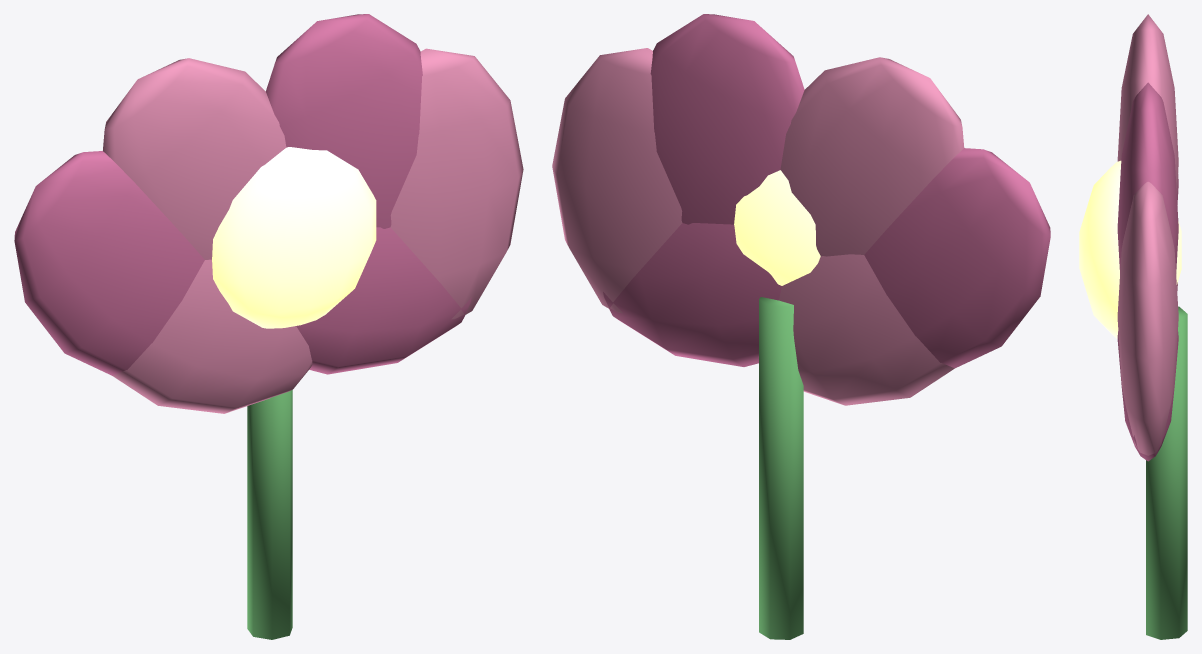
Rendered from xy_item_imprint_flower.glb.
3 views of the same model, side by side, from view 1: azimuth 30°, elevation 25°; view 2: azimuth 150°, elevation 25°; view 3: azimuth 270°, elevation 25° (orthographic). The views are drawn at different scales.
Parts seen in each view (by area): view 1: FlowerPetal.003, FlowerPetal, FlowerCore, FlowerPetal.002, FlowerPetal.001, FlowerPetal.004, FlowerPetal.005, FlowerStem; view 2: FlowerPetal.003, FlowerPetal.002, FlowerPetal.001, FlowerPetal, FlowerPetal.004, FlowerPetal.005, FlowerStem, FlowerCore; view 3: FlowerPetal, FlowerStem, FlowerPetal.001, FlowerCore, FlowerPetal.002, FlowerPetal.005.
Boxes of the visible parts, left/top/right/bottom form: FlowerPetal.003: left=14, top=151, right=204, bottom=375; FlowerPetal: left=390, top=48, right=523, bottom=319; FlowerCore: left=212, top=147, right=376, bottom=328; FlowerPetal.002: left=103, top=58, right=286, bottom=259; FlowerPetal.001: left=266, top=14, right=422, bottom=228; FlowerPetal.004: left=112, top=259, right=312, bottom=413; FlowerPetal.005: left=296, top=227, right=471, bottom=374; FlowerStem: left=247, top=390, right=292, bottom=639; FlowerPetal.003: left=864, top=148, right=1050, bottom=368; FlowerPetal.002: left=780, top=57, right=964, bottom=256; FlowerPetal.001: left=650, top=14, right=804, bottom=224; FlowerPetal: left=552, top=48, right=682, bottom=313; FlowerPetal.004: left=779, top=254, right=954, bottom=405; FlowerPetal.005: left=603, top=223, right=781, bottom=366; FlowerStem: left=759, top=297, right=803, bottom=639; FlowerCore: left=734, top=170, right=820, bottom=285; FlowerPetal: left=1117, top=181, right=1178, bottom=455; FlowerStem: left=1146, top=306, right=1187, bottom=639; FlowerPetal.001: left=1117, top=82, right=1178, bottom=273; FlowerCore: left=1079, top=160, right=1181, bottom=338; FlowerPetal.002: left=1117, top=14, right=1178, bottom=193; FlowerPetal.005: left=1117, top=331, right=1178, bottom=461.
Bounding box in the file's own units: 0.6265 × 0.7135 × 0.1235.
